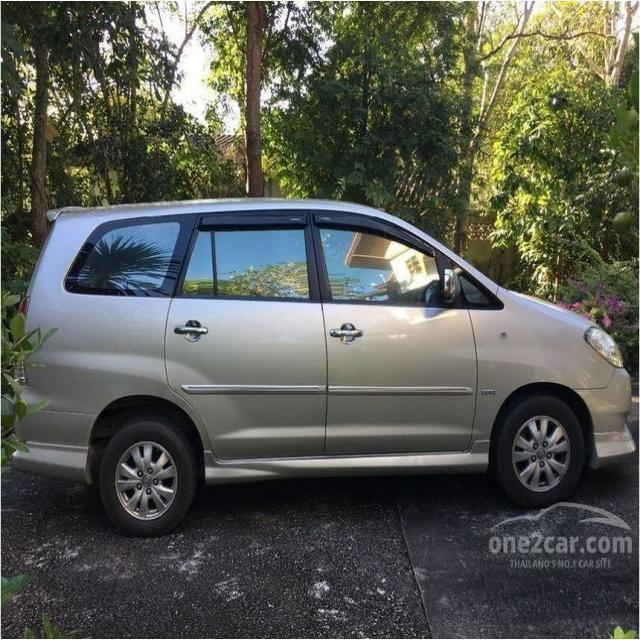light_vehicle: (12, 197, 636, 537)
